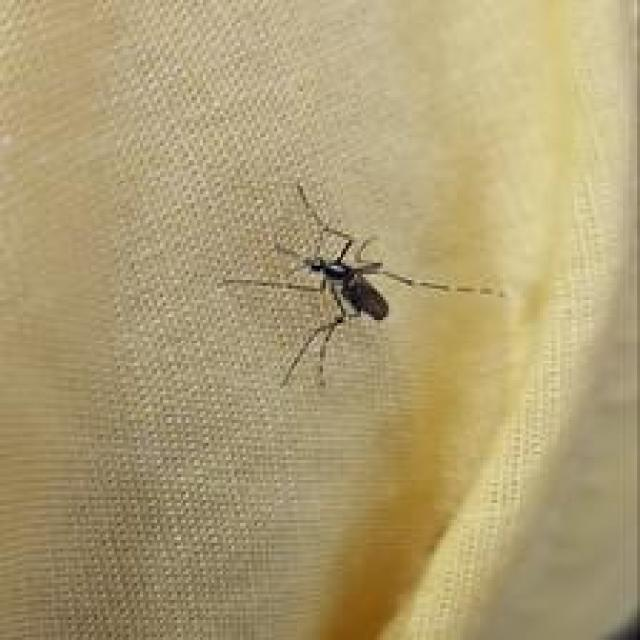Aedes albopictus: (216, 180, 507, 391)
